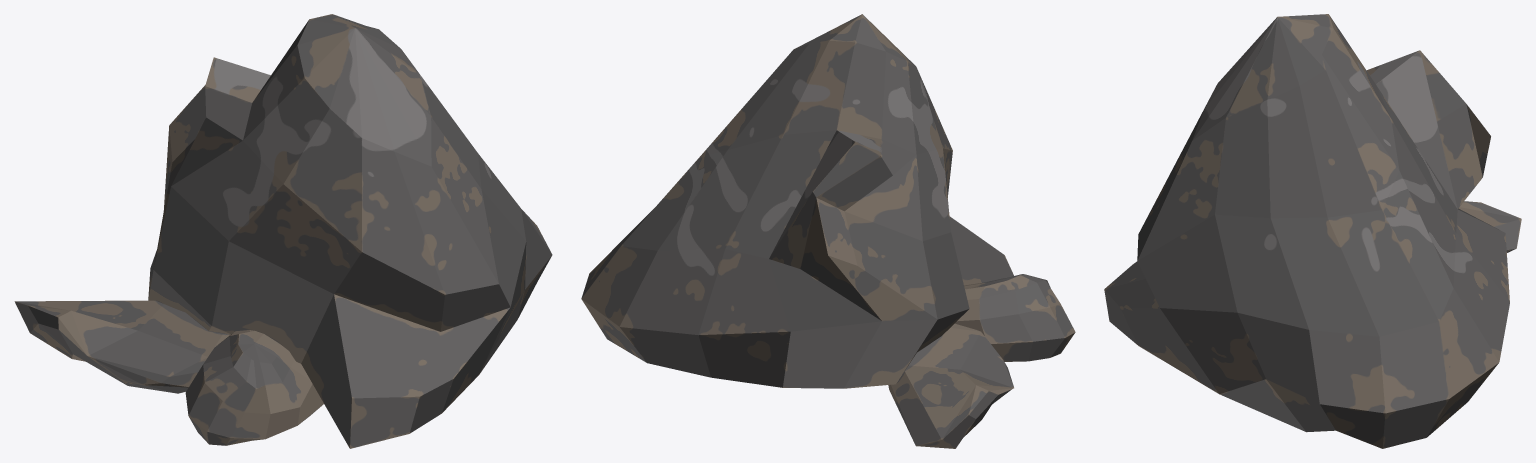
Rendered from PT_stones_002.FBX.
3 views of the same model, side by side, from view 1: azimuth 30°, elevation 25°; view 2: azimuth 150°, elevation 25°; view 3: azimuth 270°, elevation 25° (orthographic). The views are drawn at different scales.
Visible parts, largest first — view 1: Sphere002; view 2: Sphere002; view 3: Sphere002.
Part boxes in pixels (left/top/right/bottom): Sphere002: left=14, top=14, right=552, bottom=448; Sphere002: left=581, top=14, right=1075, bottom=448; Sphere002: left=1104, top=14, right=1521, bottom=448.
Size of the model in its own units: 21.18 by 15.65 by 17.36.
1 material, 1 textured.
